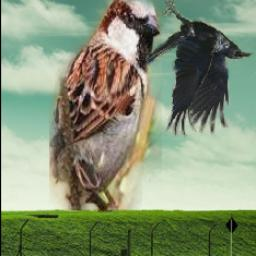Crow: (144, 0, 253, 137)
Sparrow: (48, 0, 161, 210)
